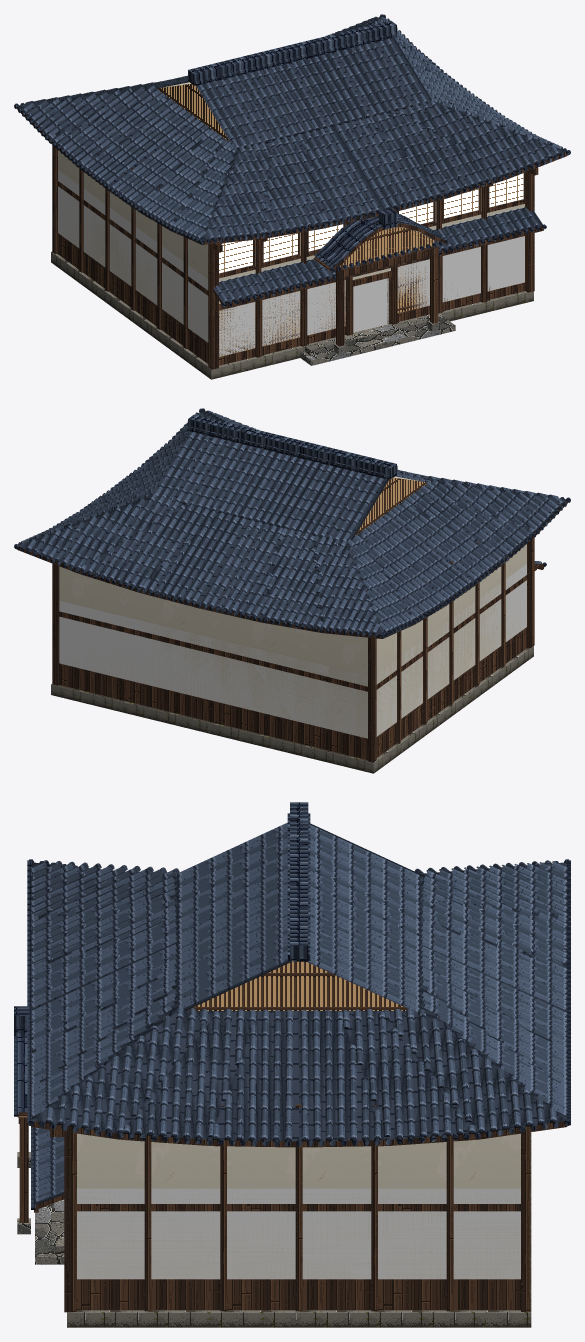
File: JP_Rich_GuildHall_A.glb
The picture shows the model from 3 angles, top to bottom: view 1: azimuth 30°, elevation 25°; view 2: azimuth 150°, elevation 25°; view 3: azimuth 270°, elevation 25°; orthographic projection. The views are drawn at different scales.
Visible parts, largest first — view 1: JP_Rich_GuildHall_A, COL_JP_Rich_GuildHall_A; view 2: JP_Rich_GuildHall_A, COL_JP_Rich_GuildHall_A; view 3: JP_Rich_GuildHall_A, COL_JP_Rich_GuildHall_A.
Part boxes in pixels (x1,y1,x2,y2): JP_Rich_GuildHall_A: (14, 14, 570, 379); COL_JP_Rich_GuildHall_A: (58, 170, 524, 356); JP_Rich_GuildHall_A: (14, 408, 570, 773); COL_JP_Rich_GuildHall_A: (59, 564, 526, 738); JP_Rich_GuildHall_A: (14, 802, 570, 1327); COL_JP_Rich_GuildHall_A: (77, 1188, 520, 1279).
Size of the model in its own units: 16.4 by 9.93 by 14.75.
10 materials, 10 textured.
